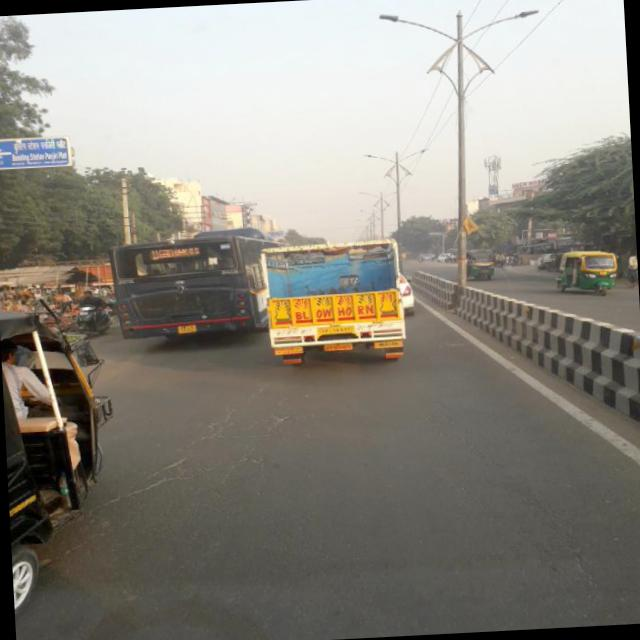crack: (124, 382, 300, 502)
pothole: (461, 421, 606, 604)
